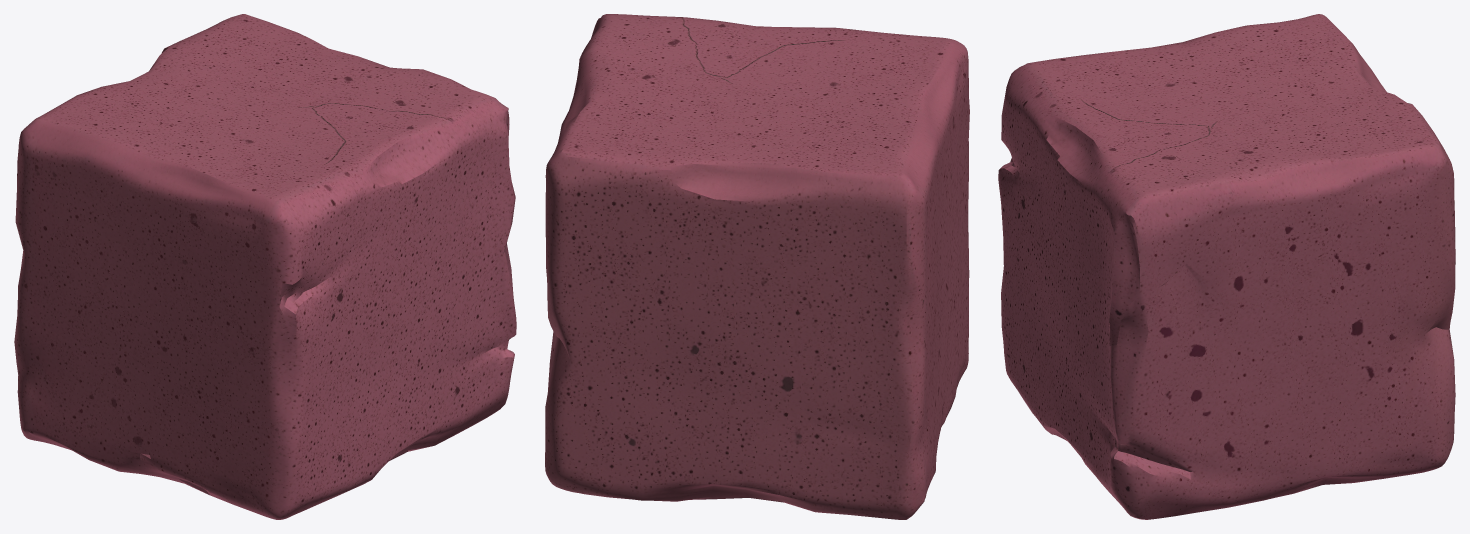
File: brick_cinder_granite.glb
The picture shows the model from 3 angles, left to right: view 1: azimuth 30°, elevation 25°; view 2: azimuth 150°, elevation 25°; view 3: azimuth 270°, elevation 25°; orthographic projection. The views are drawn at different scales.
Visible parts, largest first — view 1: Mesh_0; view 2: Mesh_0; view 3: Mesh_0.
Part boxes in pixels (left/top/right/bottom): Mesh_0: left=14, top=14, right=516, bottom=519; Mesh_0: left=545, top=14, right=969, bottom=519; Mesh_0: left=998, top=14, right=1455, bottom=519.
Bounding box in the file's own units: 1.9 × 1.47 × 1.84.
1 material, 1 textured.
